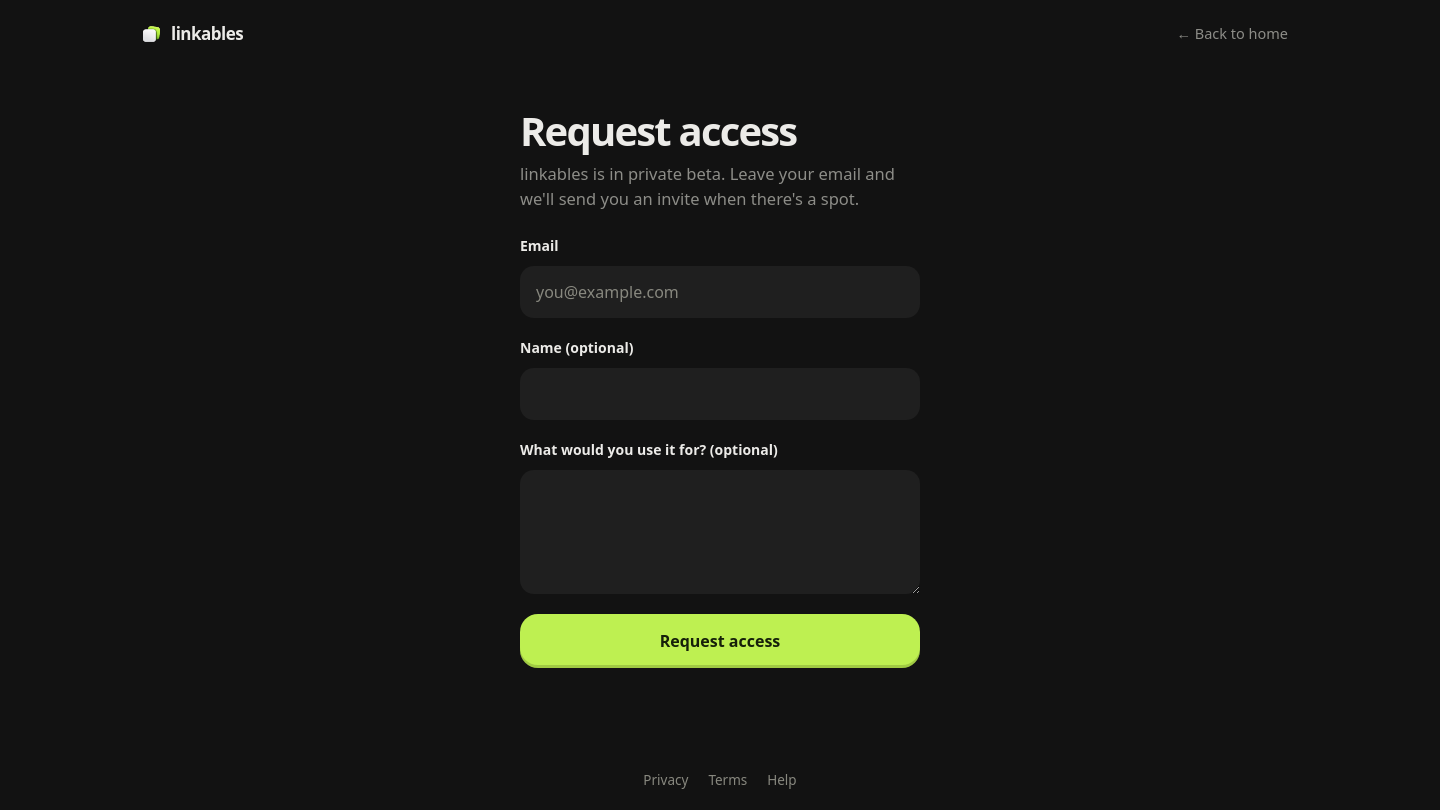
request access › explains a RATE_LIMIT failure and keeps the form
Type "sam@example.com" into the field labelled "Email" at x=720, y=292, box x1=520 y1=266 x2=920 y2=318
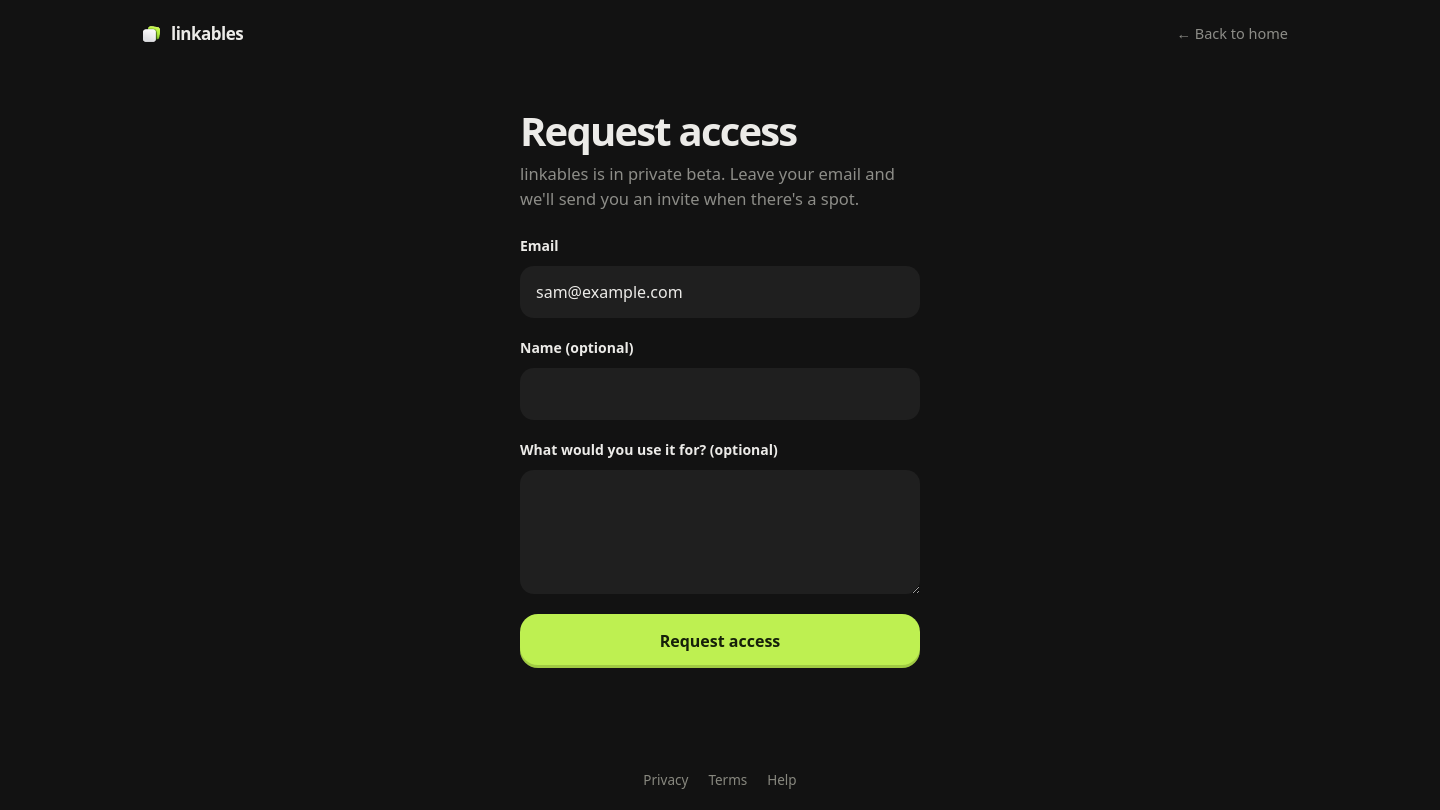
Click the button "Request access" at x=720, y=641, box x1=520 y1=614 x2=920 y2=668
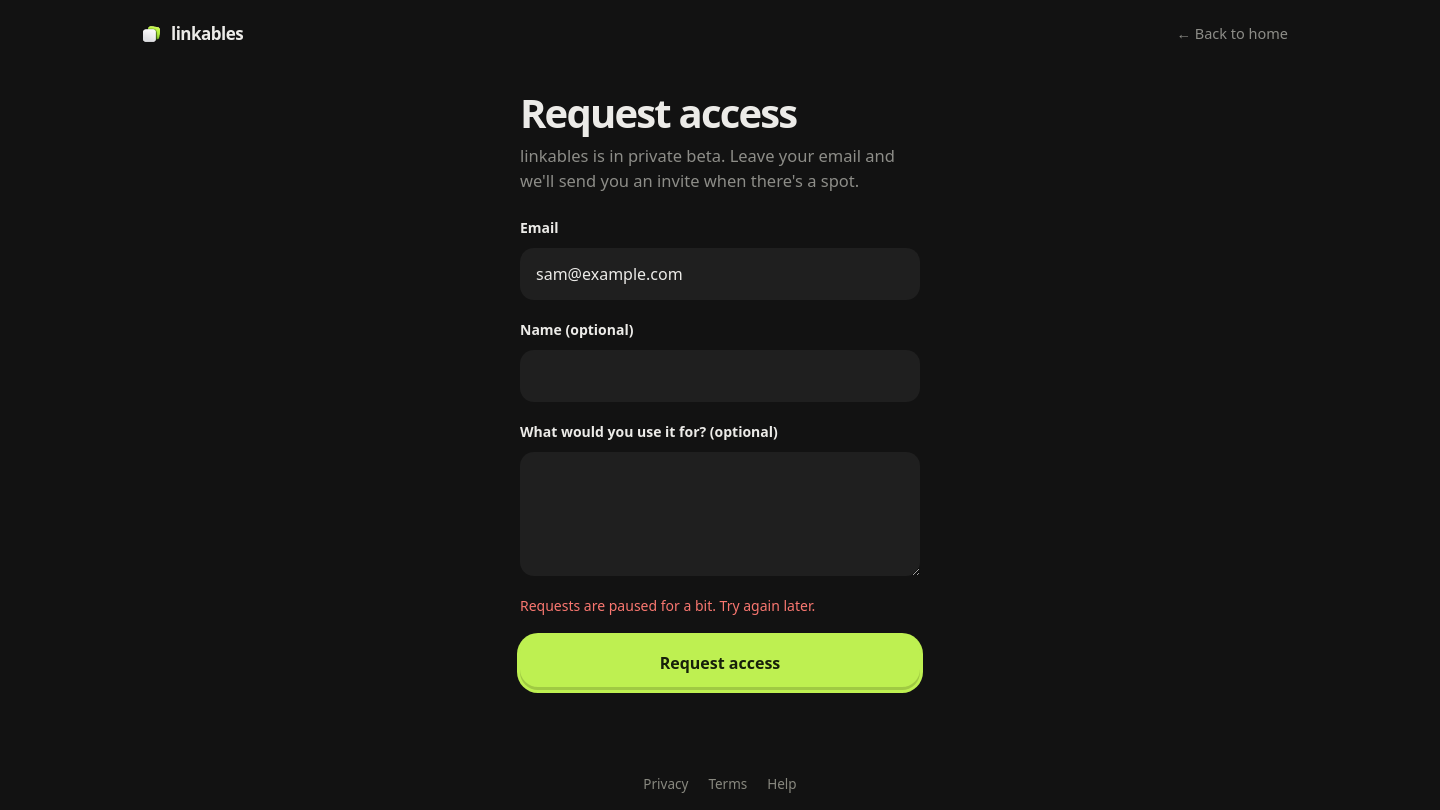
Now the message reads "Requests are paused for a bit. Try again later.", box x1=520 y1=596 x2=815 y2=614
